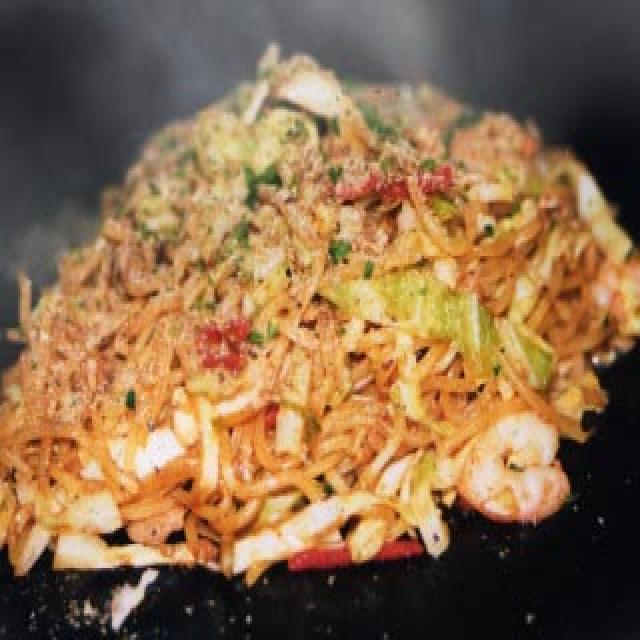面条主食: (0, 43, 640, 581)
